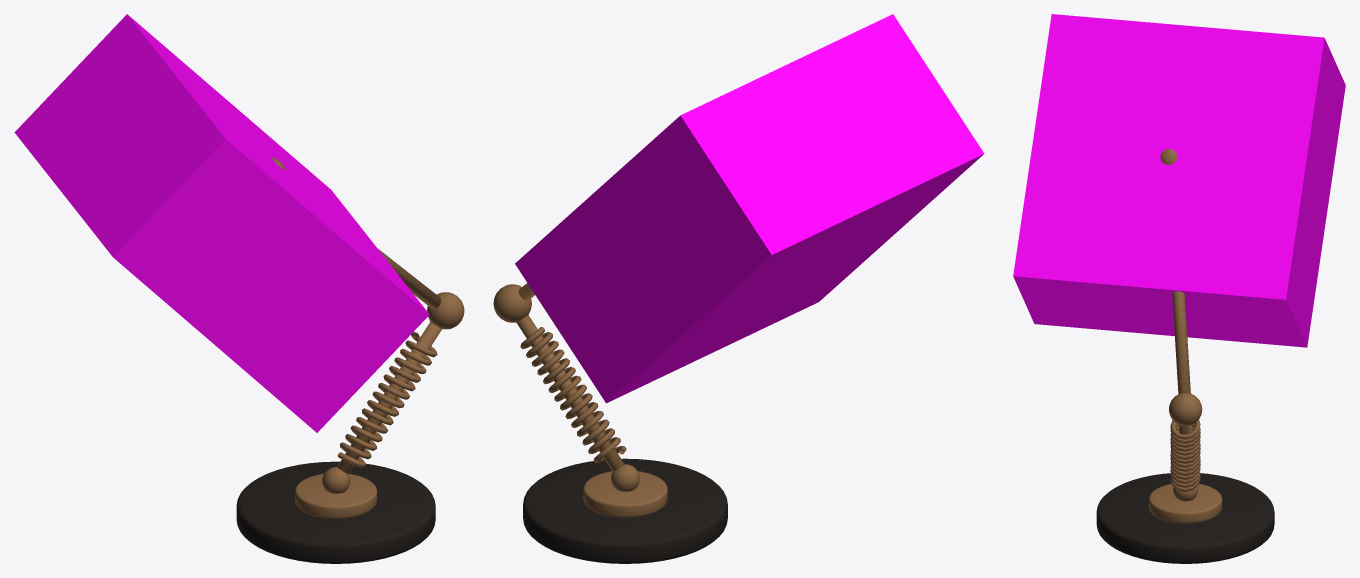
The model's file is desk-lamp.glb.
3 views of the same model, side by side, from view 1: azimuth 30°, elevation 25°; view 2: azimuth 150°, elevation 25°; view 3: azimuth 270°, elevation 25° (orthographic). The views are drawn at different scales.
Parts seen in each view (by area): view 1: lamp_hit, lamp_base, lamp_spring, lamp_base_cap, lamp_arm_lower, lamp_joint_elbow, lamp_arm_upper, lamp_joint_base; view 2: lamp_hit, lamp_base, lamp_spring, lamp_base_cap, lamp_arm_lower, lamp_joint_elbow, lamp_joint_base; view 3: lamp_hit, lamp_base, lamp_base_cap, lamp_spring, lamp_arm_upper, lamp_joint_elbow.
Part boxes in pixels (box(x1,y1,x2,y2)): lamp_hit: box(14, 14, 429, 432); lamp_base: box(236, 461, 435, 563); lamp_spring: box(337, 332, 437, 467); lamp_base_cap: box(295, 473, 376, 518); lamp_arm_lower: box(337, 322, 441, 474); lamp_joint_elbow: box(427, 292, 464, 329); lamp_arm_upper: box(378, 249, 441, 308); lamp_joint_base: box(322, 467, 349, 493); lamp_hit: box(515, 14, 984, 403); lamp_base: box(523, 458, 727, 563); lamp_spring: box(520, 327, 626, 462); lamp_base_cap: box(583, 471, 667, 517); lamp_arm_lower: box(516, 315, 624, 471); lamp_joint_elbow: box(493, 284, 531, 322); lamp_joint_base: box(611, 464, 639, 491); lamp_hit: box(1013, 14, 1345, 347); lamp_base: box(1096, 473, 1274, 563); lamp_base_cap: box(1149, 483, 1222, 523); lamp_spring: box(1170, 419, 1200, 491); lamp_arm_upper: box(1172, 291, 1190, 394); lamp_joint_elbow: box(1169, 393, 1202, 425).
Bounding box in the file's own units: 0.4058 × 0.4562 × 0.3177.
